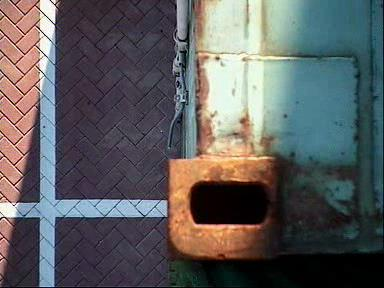groundmarker_2: (182, 1, 237, 75)
